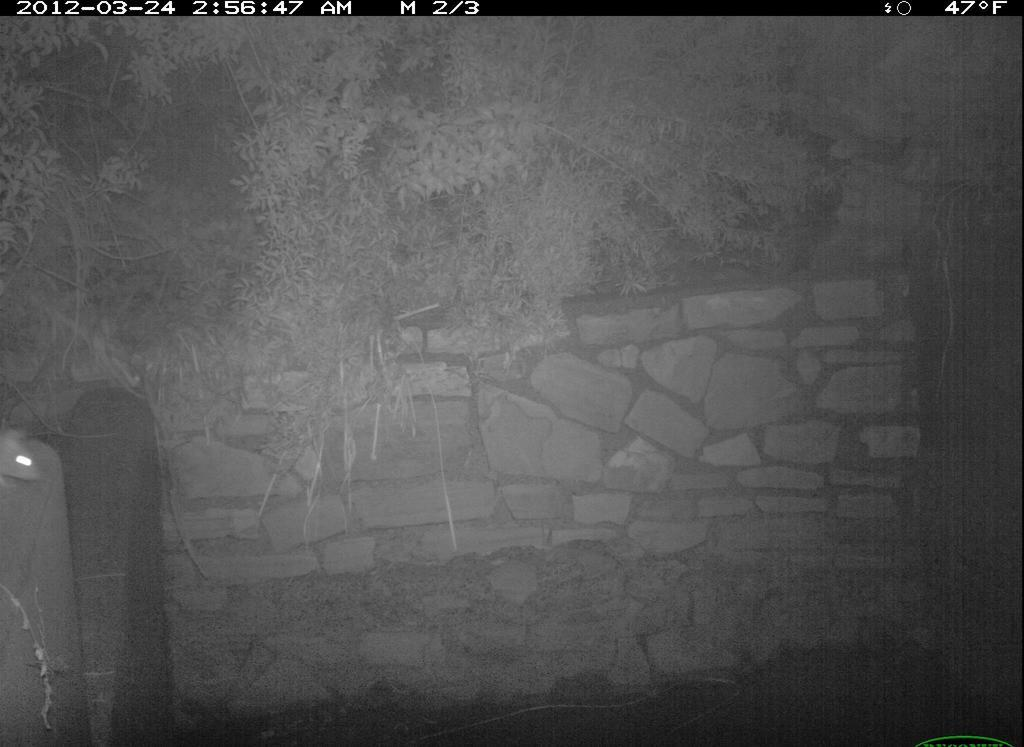rodent: (1, 378, 126, 538)
